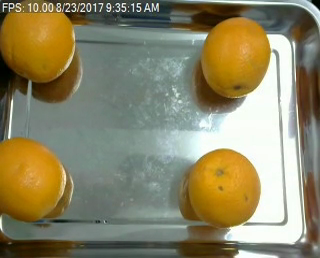Orange: (1, 1, 78, 83), (186, 148, 261, 229), (201, 17, 271, 98), (1, 136, 67, 220)
